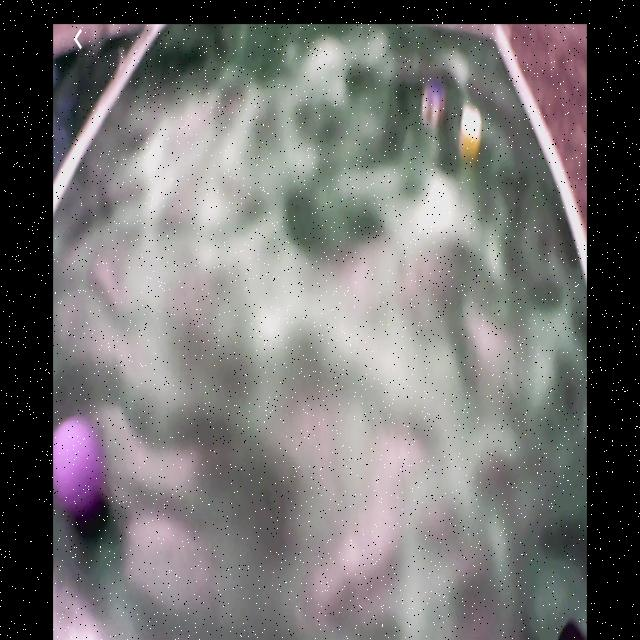ball: (55, 416, 103, 515)
